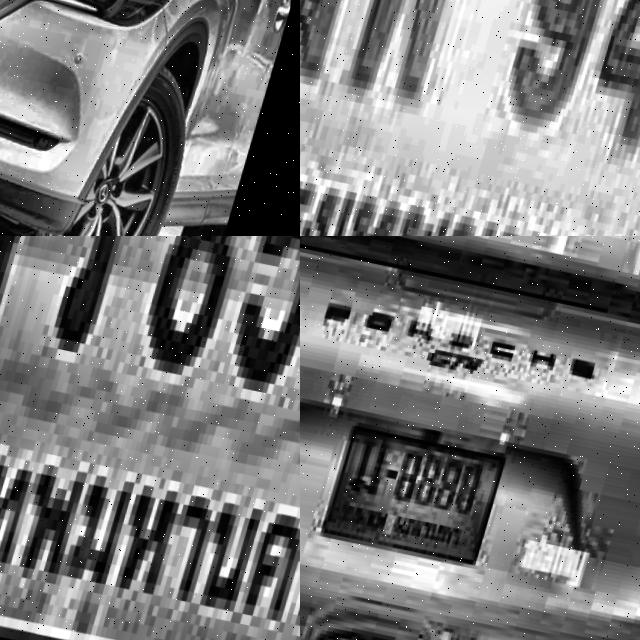license-plate: (0, 236, 300, 640), (300, 0, 640, 236), (328, 422, 520, 567)
